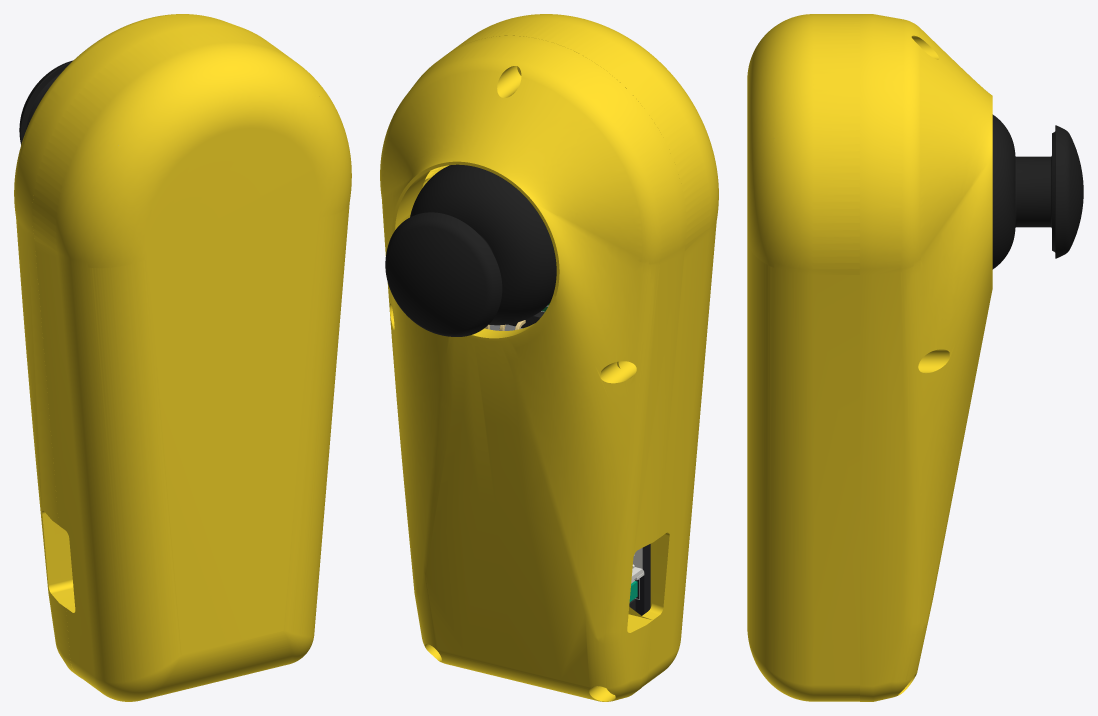
The model's file is controle.glb.
3 views of the same model, side by side, from view 1: azimuth 30°, elevation 25°; view 2: azimuth 150°, elevation 25°; view 3: azimuth 270°, elevation 25° (orthographic).
Visible parts, largest first — view 1: shellB, shellF, knob; view 2: shellF, shellB, knob, exp; view 3: shellB, shellF, knob.
Boxes of the visible parts, x1,y1,x2,y2 form: shellB: (32,25,351,701); shellF: (14,14,267,678); knob: (19,60,72,144); shellF: (380,35,686,701); shellB: (448,14,718,686); knob: (385,164,556,336); exp: (629,544,650,615); shellB: (747,14,859,701); shellF: (859,14,992,701); knob: (992,114,1083,269).
Size of the model in its own units: 5 by 10.5 by 5.07.
